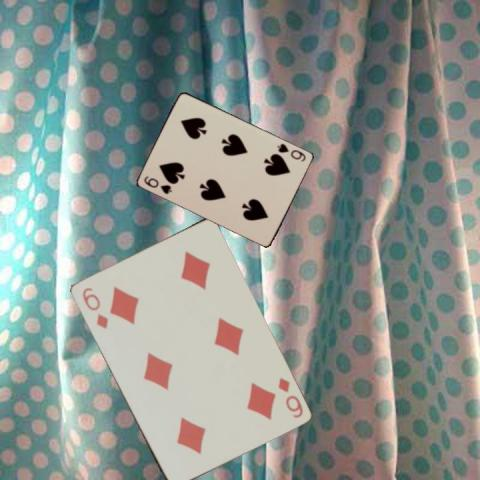6d: (79, 284, 109, 331), (275, 374, 304, 419)
6s: (275, 140, 307, 163), (141, 173, 174, 195)
